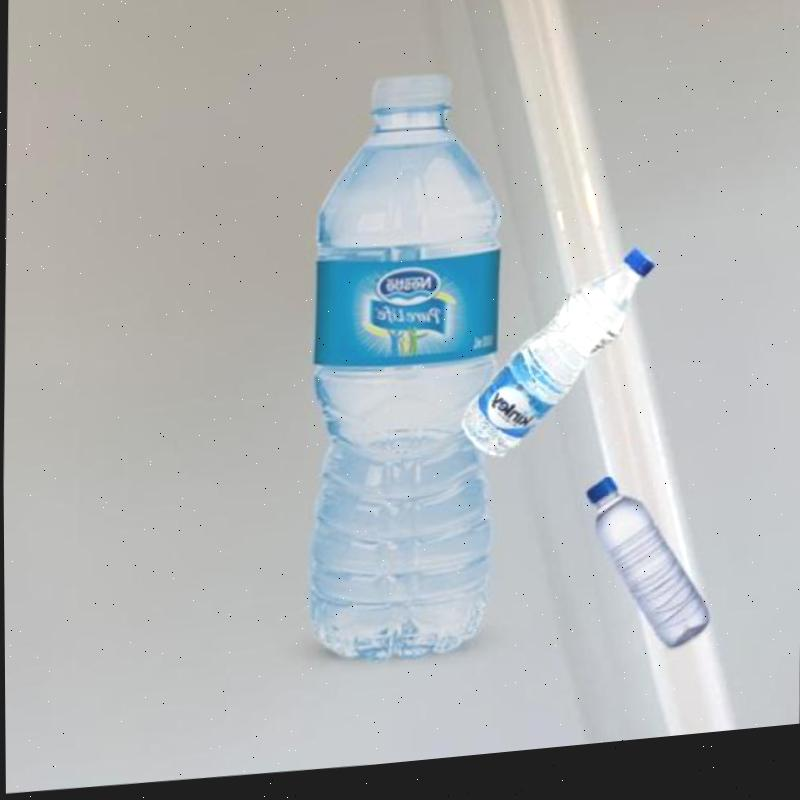botella: (308, 74, 502, 673), (459, 260, 652, 471), (579, 480, 712, 671)
